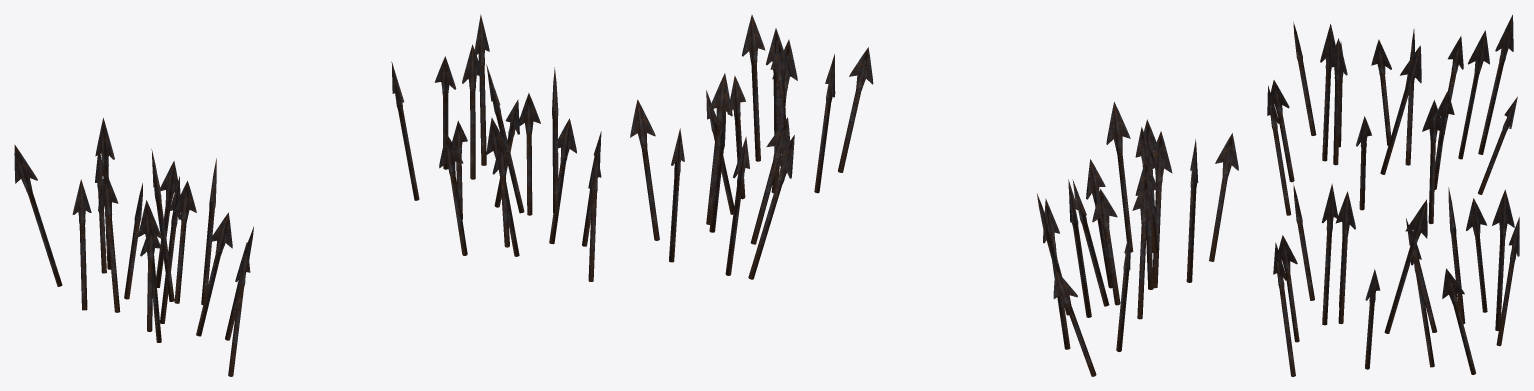
File: Spear2.fbx
3 views of the same model, side by side, from view 1: azimuth 30°, elevation 25°; view 2: azimuth 150°, elevation 25°; view 3: azimuth 270°, elevation 25° (orthographic). The views are drawn at different scales.
Visible parts, largest first — view 1: LV_Nigraturis_Spear02A_SM_HSH; view 2: LV_Nigraturis_Spear02A_SM_HSH; view 3: LV_Nigraturis_Spear02A_SM_HSH.
Boxes of the visible parts, x1,y1,x2,y2 form: LV_Nigraturis_Spear02A_SM_HSH: (14, 14, 601, 376); LV_Nigraturis_Spear02A_SM_HSH: (630, 15, 1238, 376); LV_Nigraturis_Spear02A_SM_HSH: (1267, 14, 1519, 376).
Size of the model in its own units: 1.57 by 0.6528 by 0.7582.
